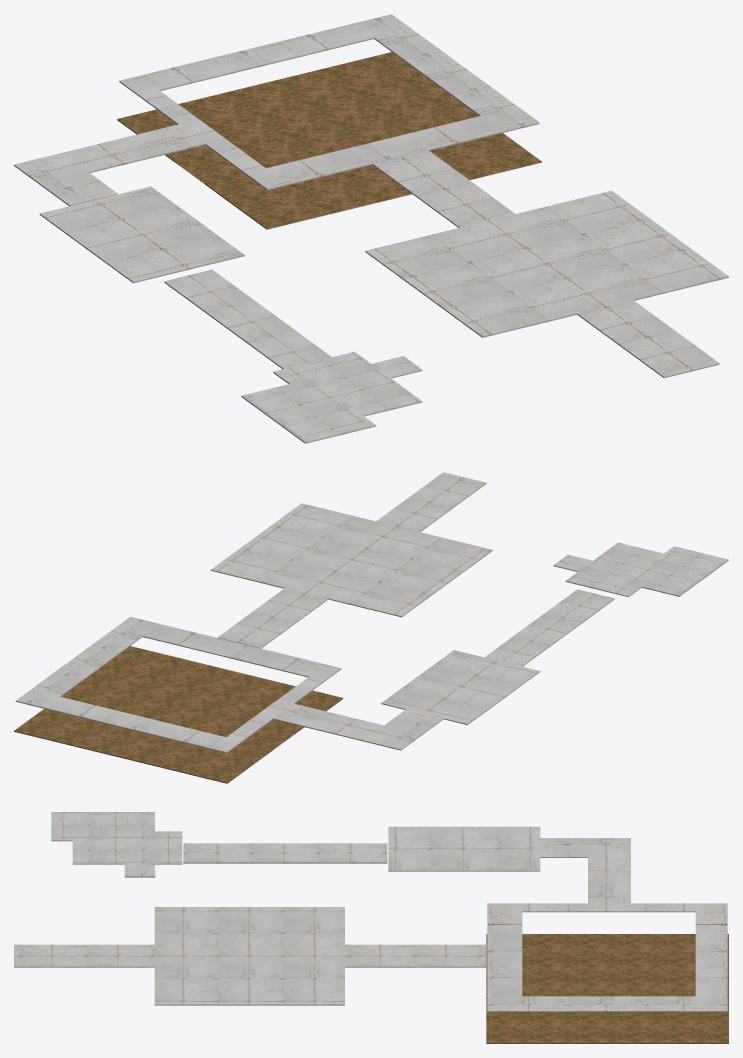
The model's file is techo.obj.
3 renders of one model, top to bottom at view 1: azimuth 30°, elevation 25°; view 2: azimuth 150°, elevation 25°; view 3: azimuth 270°, elevation 25°, orthographic. The views are drawn at different scales.
Visible parts, largest first — view 1: Cube.133, Cube.285, Cube.118, Cube.117, Cube.115, Cube.116; view 2: Cube.133, Cube.285, Cube.118, Cube.117, Cube.115, Cube.116; view 3: Cube.133, Cube.285, Cube.118, Cube.117, Cube.115, Cube.116.
Part boxes in pixels (x1,y1,x2,y2): Cube.133: (365,150,728,378); Cube.285: (117,52,541,229); Cube.118: (14,14,539,206); Cube.117: (39,186,244,283); Cube.115: (241,351,422,443); Cube.116: (164,269,331,369); Cube.133: (210,472,492,648); Cube.285: (14,646,343,783); Cube.118: (15,616,444,753); Cube.117: (381,650,540,724); Cube.115: (553,542,728,597); Cube.116: (484,589,614,666); Cube.133: (14,907,486,1005); Cube.285: (486,934,728,1043); Cube.118: (487,838,727,1011); Cube.117: (388,826,540,871); Cube.115: (51,812,182,877); Cube.116: (183,843,387,863).
Size of the model in its own units: 156 by 11.79 by 236.
